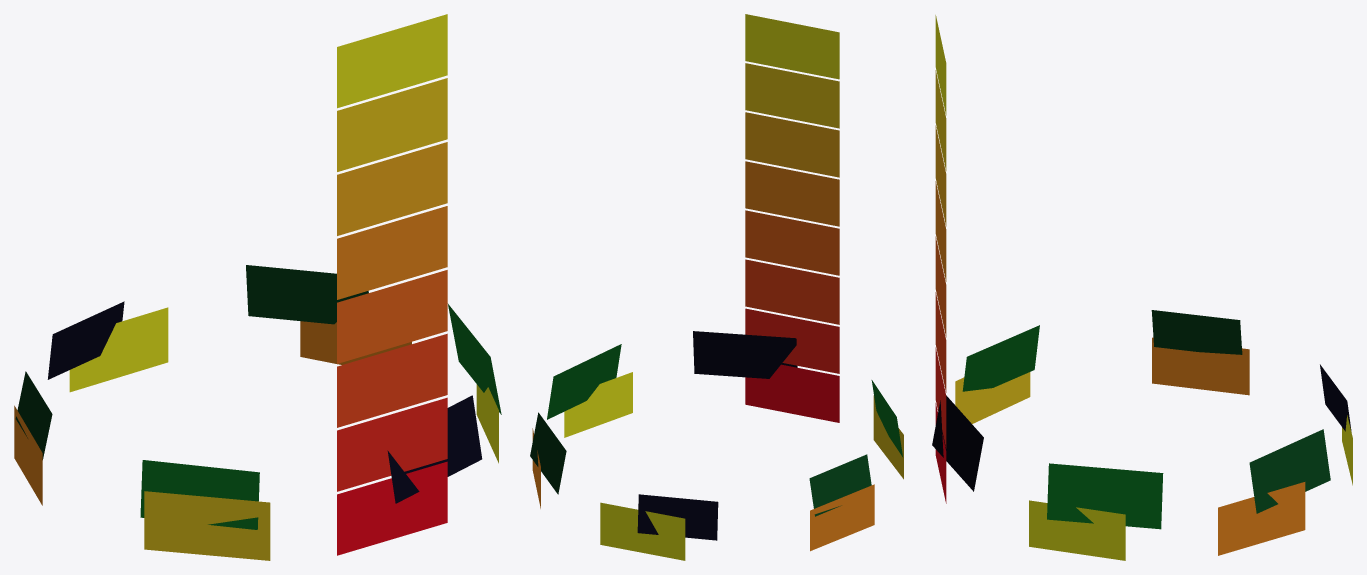
Rendered from cloud1.fbx.
3 views of the same model, side by side, from view 1: azimuth 30°, elevation 25°; view 2: azimuth 150°, elevation 25°; view 3: azimuth 270°, elevation 25° (orthographic). The views are drawn at different scales.
Visible parts, largest first — view 1: cloud1; view 2: cloud1; view 3: cloud1.
Part boxes in pixels (<box>): cloud1: <box>14,14,501,560</box>; cloud1: <box>530,14,903,560</box>; cloud1: <box>932,15,1352,560</box>.
Size of the model in its own units: 10354 by 11940 by 10313.
